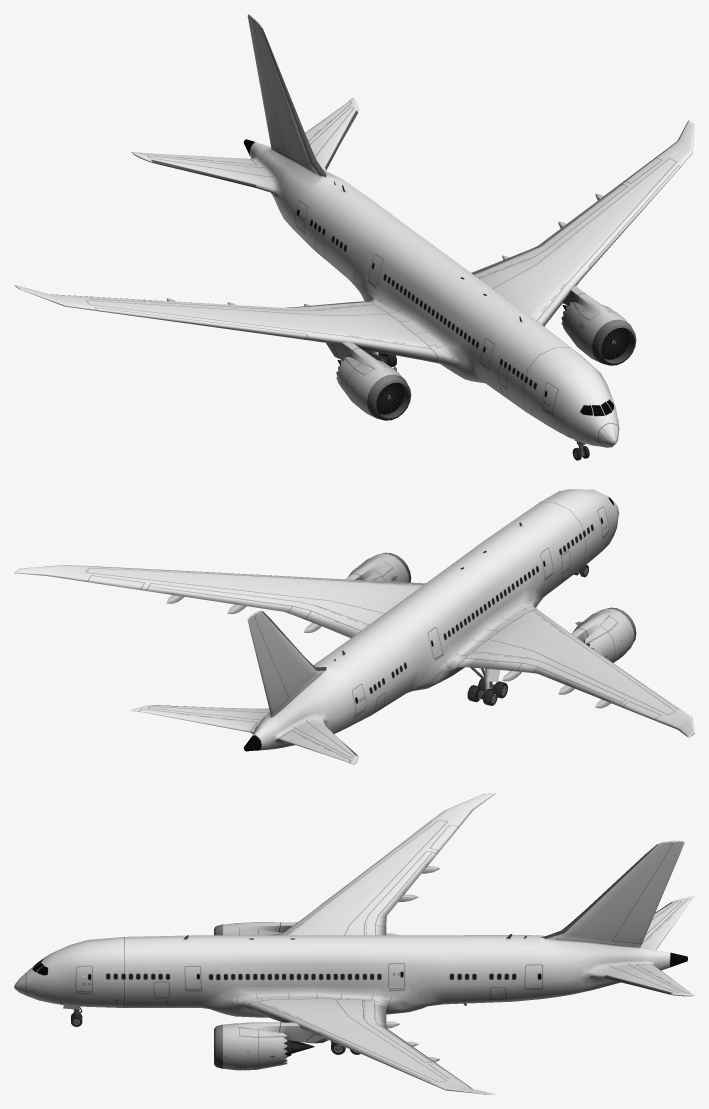
3 views of the same model, one above another, from view 1: azimuth 30°, elevation 25°; view 2: azimuth 150°, elevation 25°; view 3: azimuth 270°, elevation 25° (orthographic). The views are drawn at different scales.
Visible parts, largest first — view 1: fuselage, engine; view 2: fuselage, engine, wheel, aileron; view 3: fuselage, engine.
Part boxes in pixels (<box>): fuselage: <box>14,14,694,447</box>; engine: <box>326,285,636,420</box>; fuselage: <box>14,489,694,764</box>; engine: <box>345,552,636,662</box>; wheel: <box>467,678,507,705</box>; aileron: <box>166,595,610,708</box>; fuselage: <box>14,793,694,1094</box>; engine: <box>214,922,328,1070</box>.
Bounding box in the file's own units: 58.62 × 16.82 × 56.13.
1 material, 1 textured.
